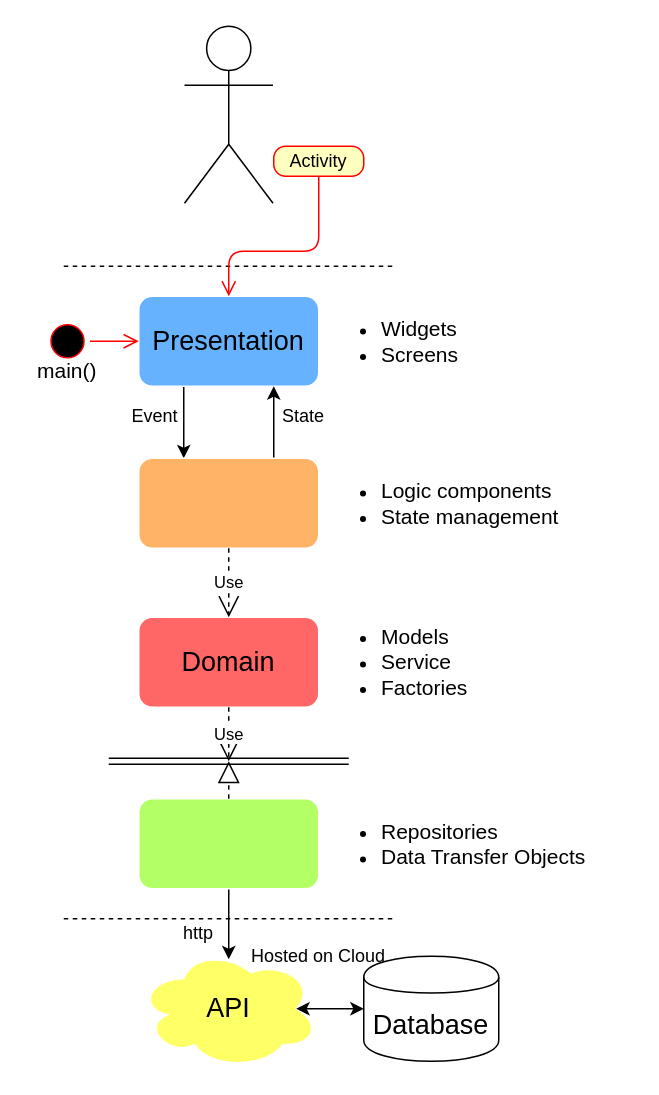
Some shapes in this 659 by 1095 pixel diagram are drawn without their labels. The shapes that lost their labels are listed below. From the top down, each one's centre as x and y in pixels, then its label:
(x=228, y=114): Actor
(x=228, y=502): Application
(x=228, y=843): Infrastructure
